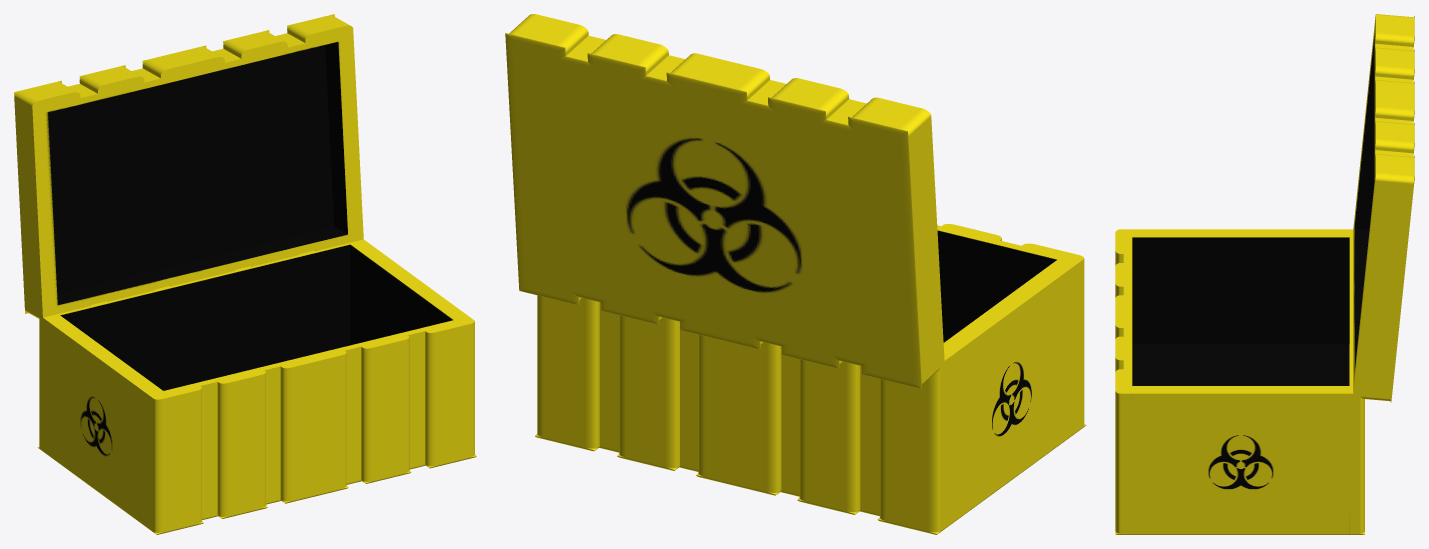
Rendered from EvidenceBox.fbx.
3 views of the same model, side by side, from view 1: azimuth 30°, elevation 25°; view 2: azimuth 150°, elevation 25°; view 3: azimuth 270°, elevation 25° (orthographic). The views are drawn at different scales.
Parts seen in each view (by area): view 1: Box, Lid; view 2: Lid, Box; view 3: Box, Lid.
Boxes of the visible parts, box(x1,y1,x2,y2) form: Box: box(37, 239, 476, 534); Lid: box(14, 14, 363, 318); Lid: box(505, 14, 944, 388); Box: box(535, 224, 1086, 534); Box: box(1115, 229, 1364, 534); Lid: box(1353, 14, 1414, 402).
Bounding box in the file's own units: 334 × 341 × 257.
